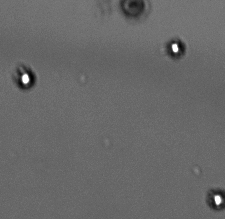Dead Cell: (118, 1, 149, 20)
Living Cell: (14, 66, 37, 91), (165, 36, 186, 58), (206, 185, 223, 211)
